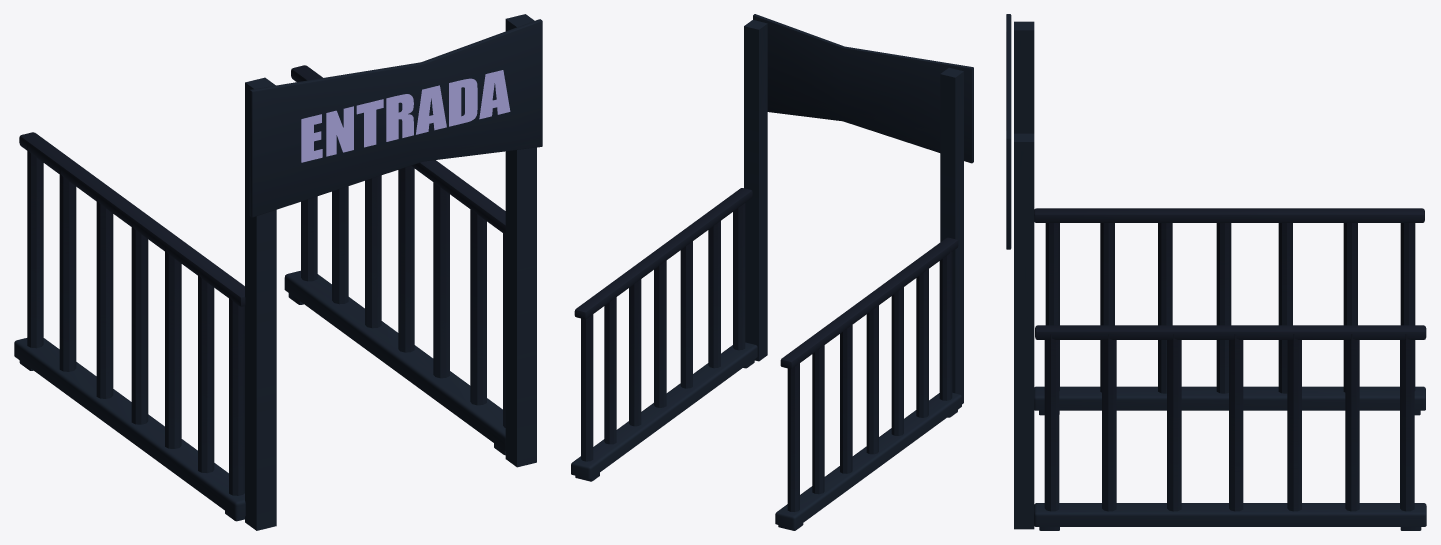
File: MSH_Entrada.fbx
3 renders of one model, left to right at view 1: azimuth 30°, elevation 25°; view 2: azimuth 150°, elevation 25°; view 3: azimuth 270°, elevation 25°, orthographic. The views are drawn at different scales.
Visible parts, largest first — view 1: MSH_BardaMetal004; view 2: MSH_BardaMetal004; view 3: MSH_BardaMetal004.
Part boxes in pixels (x1,y1,x2,y2): MSH_BardaMetal004: (14,14,542,530); MSH_BardaMetal004: (571,14,973,530); MSH_BardaMetal004: (1006,14,1426,530).
Bounding box in the file's own units: 89.36 × 128 × 125.
